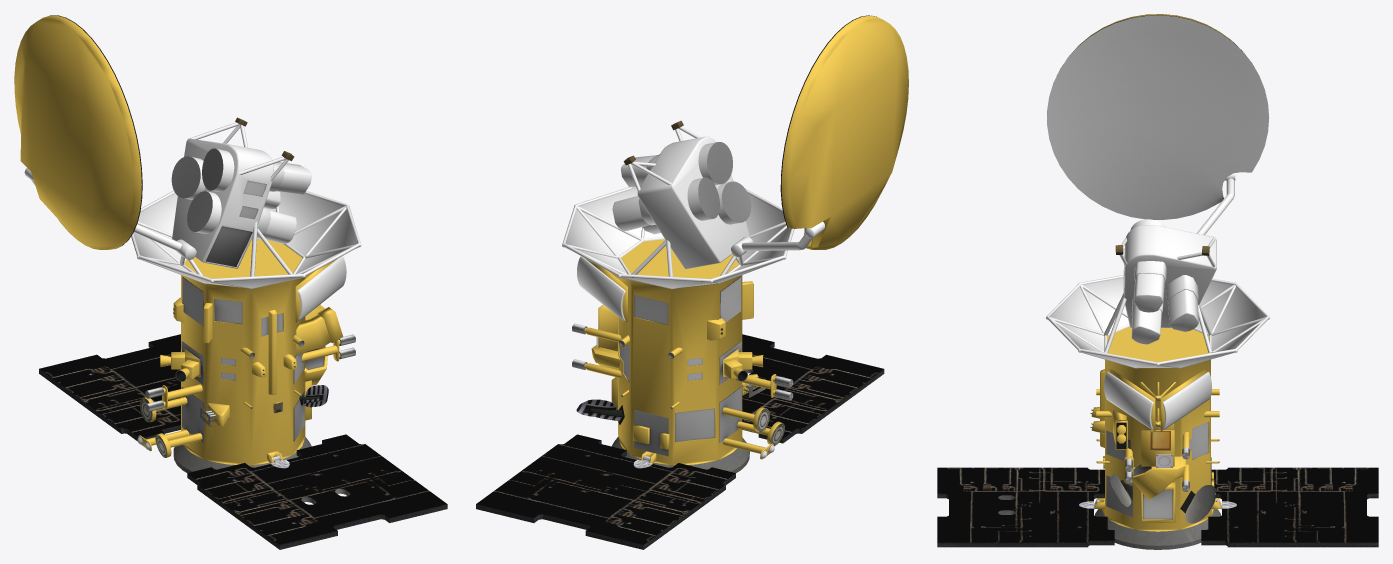
File: aquarius.glb
3 views of the same model, side by side, from view 1: azimuth 30°, elevation 25°; view 2: azimuth 150°, elevation 25°; view 3: azimuth 270°, elevation 25° (orthographic). The views are drawn at different scales.
Visible parts, largest first — view 1: BUS, tex_02, foil_silver, AO_other_dep, tex_01; view 2: BUS, tex_02, foil_silver, AO_other_dep, tex_01; view 3: AO_dish_dep, tex_02, foil_silver, BUS, tex_01, AO_other_dep.
Part boxes in pixels (x1,y1,x2,y2): BUS: (14,15,343,465); tex_02: (39,15,446,544); foil_silver: (24,122,361,321); AO_other_dep: (137,148,324,450); tex_01: (39,117,447,549); BUS: (584,15,908,465); tex_02: (476,15,883,544); foil_silver: (562,126,824,321); AO_other_dep: (620,142,774,458); tex_01: (476,120,884,549); AO_dish_dep: (1047,15,1269,219); tex_02: (937,15,1378,542); foil_silver: (1046,173,1269,430); BUS: (1071,14,1241,531); tex_01: (937,245,1378,549); AO_other_dep: (1106,422,1211,519).
Bounding box in the file's own units: 3.49 × 5.39 × 4.97.
Materials: 8 (6 with a texture image).
